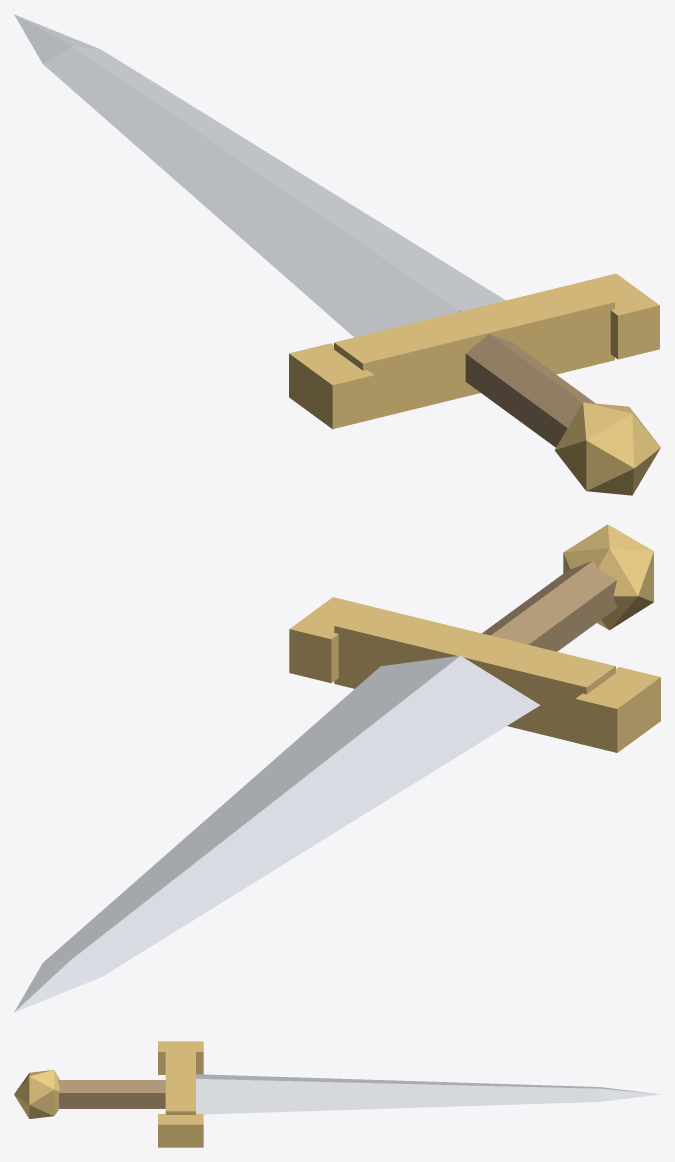
The model's file is SwordIron.fbx.
The picture shows the model from 3 angles, top to bottom: view 1: azimuth 30°, elevation 25°; view 2: azimuth 150°, elevation 25°; view 3: azimuth 270°, elevation 25°; orthographic projection. The views are drawn at different scales.
Visible parts, largest first — view 1: fam_steel, fam_gold, fam_leather; view 2: fam_steel, fam_gold, fam_leather; view 3: fam_steel, fam_gold, fam_leather.
Part boxes in pixels (<box>): fam_steel: <box>14,14,505,337</box>; fam_gold: <box>289,273,660,495</box>; fam_leather: <box>465,334,594,447</box>; fam_steel: <box>14,655,539,1012</box>; fam_gold: <box>289,524,660,752</box>; fam_leather: <box>482,560,616,651</box>; fam_steel: <box>196,1074,660,1114</box>; fam_gold: <box>14,1041,203,1147</box>; fam_leather: <box>58,1080,165,1108</box>.
Bounding box in the file's own units: 1.37 × 0.3275 × 4.48.
